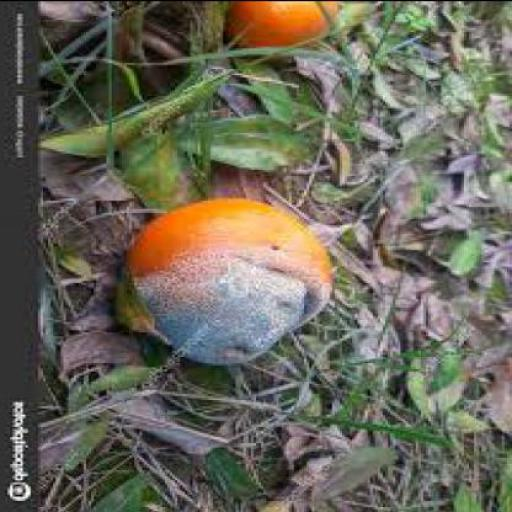biodegradable: (119, 196, 340, 368), (228, 2, 344, 51)
